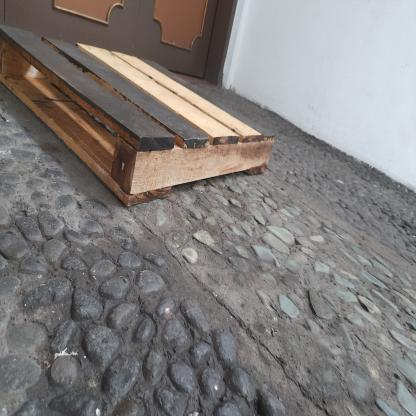Wooden-Pallet: (0, 22, 281, 212)
